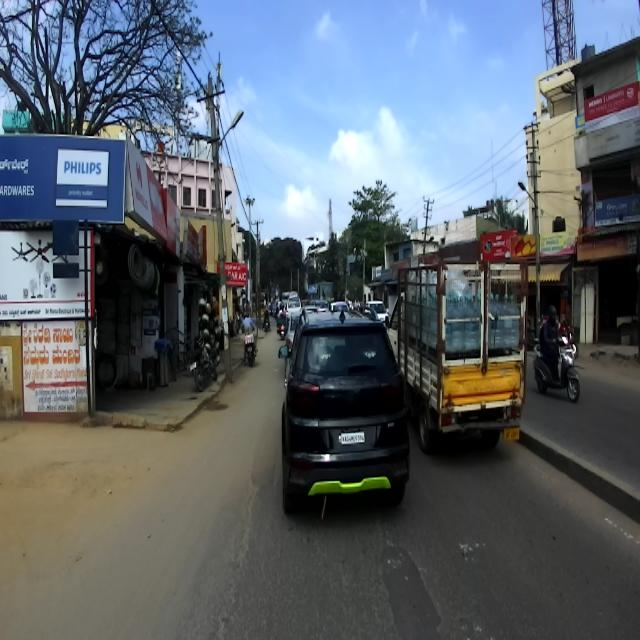car ahead at: (274, 306, 410, 514), (398, 246, 528, 453)
electric pole ahead at: (187, 65, 240, 389)
